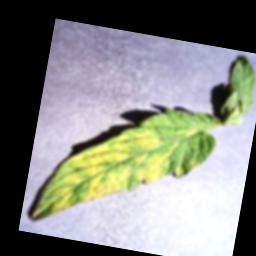Leaf_Mold: (28, 86, 221, 249)
